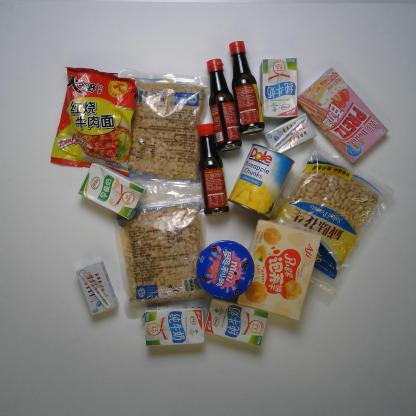Canned Food: (227, 140, 291, 218)
Dessert: (238, 213, 329, 319), (300, 68, 388, 164), (193, 236, 260, 300)
Dried Fruit: (278, 148, 392, 294), (110, 66, 200, 186), (113, 189, 208, 302)
Instant Noodles: (49, 61, 140, 174)
Milk: (76, 162, 146, 220), (204, 299, 270, 352), (144, 302, 207, 350), (78, 262, 124, 325), (260, 58, 304, 121), (264, 115, 318, 153)
Seasoner: (188, 123, 232, 217), (225, 42, 268, 135), (202, 57, 243, 153)
